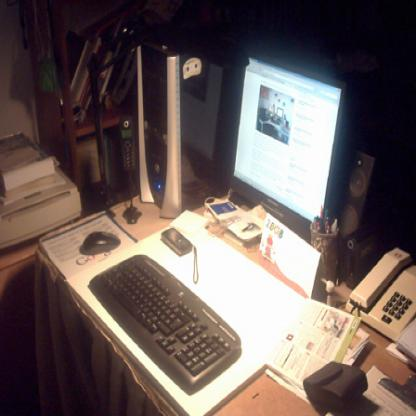tvmonitor: (226, 50, 356, 252)
